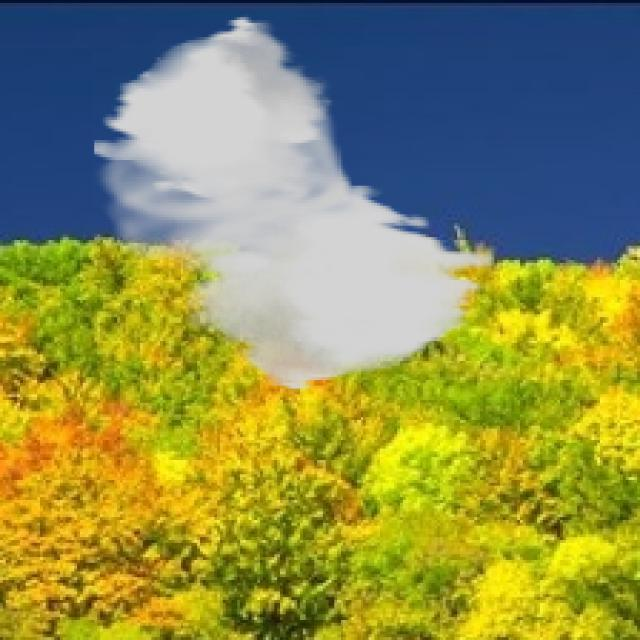Smoke: (92, 14, 494, 392)
